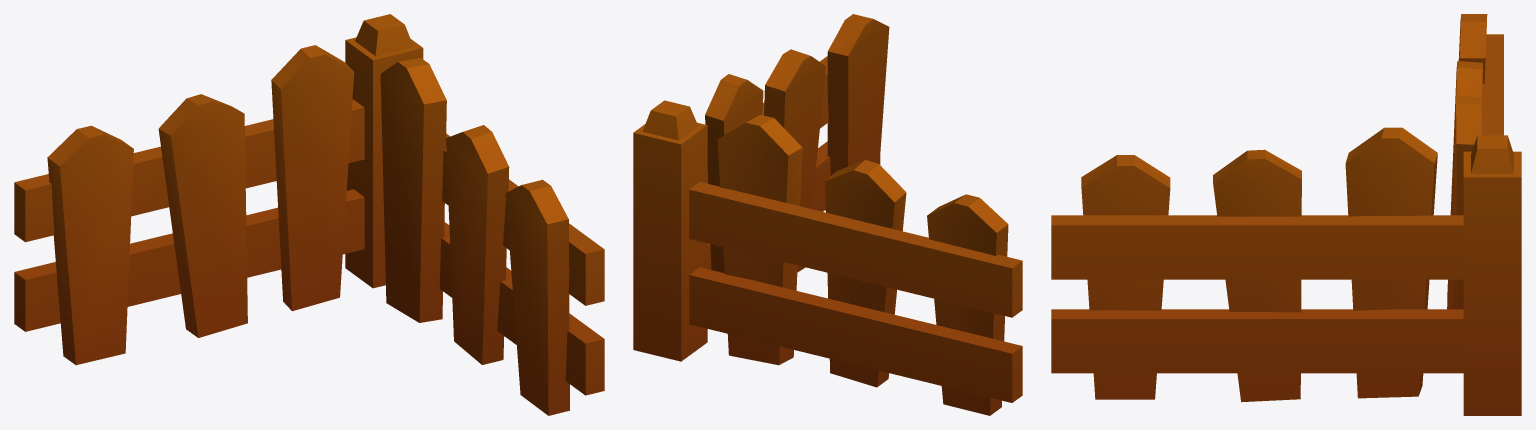
The model's file is Farm_Fence_B_02.fbx.
The picture shows the model from 3 angles, left to right: view 1: azimuth 30°, elevation 25°; view 2: azimuth 150°, elevation 25°; view 3: azimuth 270°, elevation 25°; orthographic projection. The views are drawn at different scales.
Visible parts, largest first — view 1: Farm_Fence_B_02; view 2: Farm_Fence_B_02; view 3: Farm_Fence_B_02.
Part boxes in pixels (x1,y1,x2,y2): Farm_Fence_B_02: (14,14,604,415); Farm_Fence_B_02: (633,14,1022,415); Farm_Fence_B_02: (1051,14,1521,415).
Size of the model in its own units: 177 by 108 by 177.
